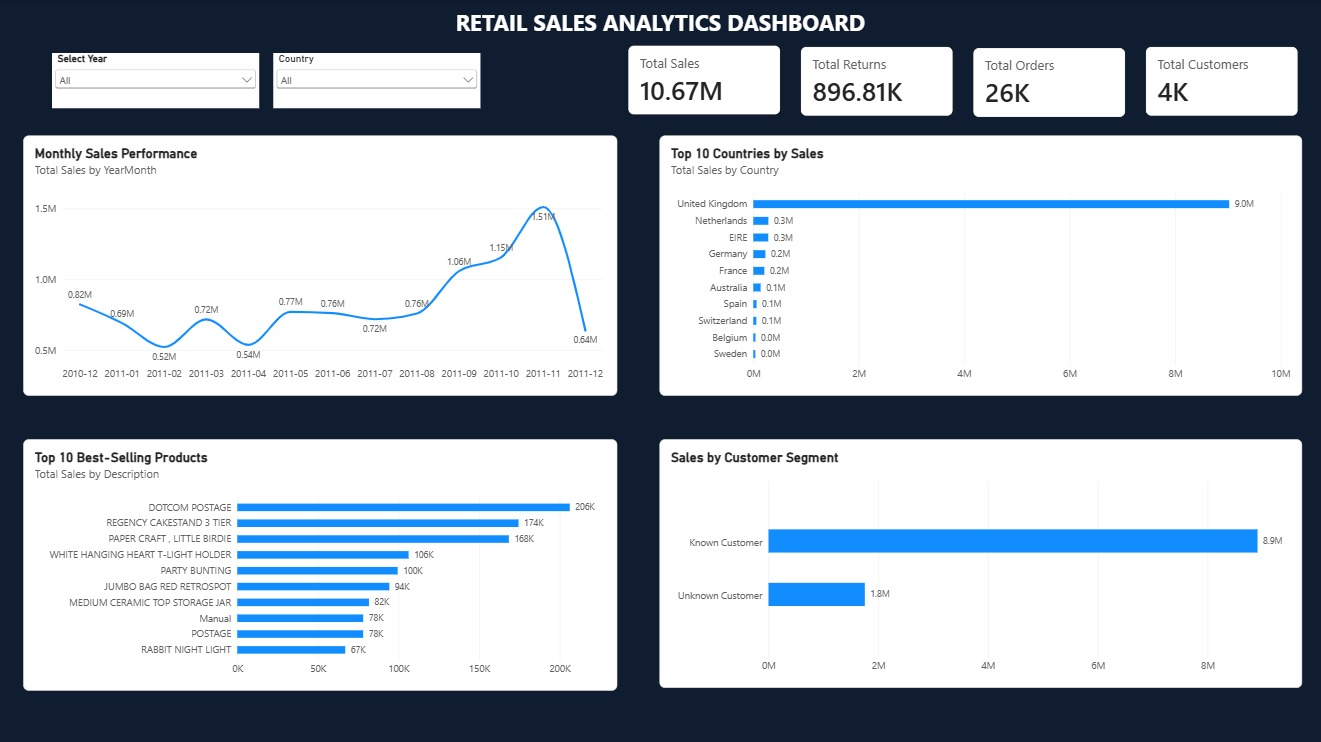

Layout of this report page (visuals, bound fields, positions):
{"tool":"powerbi","page":{"name":"Page 1","canvas":[1920,1080],"ordinal":0},"visuals":[{"type":"cardVisual","fields":{"Data":["Retail_Cleaned.Total Sales"]},"box":[913.9,68.8,220,100],"z":0},{"type":"cardVisual","fields":{"Data":["Online Retail.Total Returns"]},"box":[1163.6,70.6,220,100],"z":1000},{"type":"lineChart","title":"Monthly Sales Performance","fields":{"Category":["Retail_Cleaned.YearMonth"],"Y":["Retail_Cleaned.Total Sales"]},"box":[37.6,199.7,860.4,376.7],"z":2000},{"type":"clusteredBarChart","title":"Top 10 Countries by Sales","fields":{"Category":["Retail_Cleaned.Country"],"Y":["Retail_Cleaned.Total Sales"]},"box":[959.8,199.7,930.4,376.7],"z":3000},{"type":"textbox","title":"RETAIL SALES ANALYTICS DASHBOARD","box":[510,12.3,900,49.4],"z":4000},{"type":"cardVisual","fields":{"Data":["Online Retail.Total Orders"]},"box":[1413.3,72.4,220,100],"z":5000},{"type":"cardVisual","fields":{"Data":["Online Retail.Total Customers"]},"box":[1663,71.1,220,100],"z":6000},{"type":"clusteredBarChart","title":"Top 10 Best-Selling Products","fields":{"Category":["Retail_Cleaned.Description"],"Y":["Retail_Cleaned.Total Sales"]},"box":[37.6,638.1,860.4,364.3],"z":7000},{"type":"clusteredBarChart","title":"Sales by Customer Segment","fields":{"Category":["Retail_Cleaned.CustomerStatus"],"Y":["Retail_Cleaned.Total Sales"]},"box":[959.6,638,930,360],"z":10000},{"type":"slicer","fields":{"Values":["Retail_Cleaned.OrderYear"]},"box":[80,80,300,80],"z":10500},{"type":"slicer","fields":{"Values":["Retail_Cleaned.Country"]},"box":[400,80,300,80],"z":11000}]}

Visuals, with their boxes in screenshot pixels (x1, y1, x2, y2), scaled from the page's 1920x1080 canvas onto the 1321x742 screenshot:
cardVisual - Retail_Cleaned.Total Sales: box=[629, 47, 780, 116]
cardVisual - Online Retail.Total Returns: box=[801, 49, 952, 117]
"Monthly Sales Performance" lineChart: box=[26, 137, 618, 396]
"Top 10 Countries by Sales" clusteredBarChart: box=[660, 137, 1300, 396]
"RETAIL SALES ANALYTICS DASHBOARD" textbox: box=[351, 8, 970, 42]
cardVisual - Online Retail.Total Orders: box=[972, 50, 1124, 118]
cardVisual - Online Retail.Total Customers: box=[1144, 49, 1296, 118]
"Top 10 Best-Selling Products" clusteredBarChart: box=[26, 438, 618, 689]
"Sales by Customer Segment" clusteredBarChart: box=[660, 438, 1300, 686]
slicer - Retail_Cleaned.OrderYear: box=[55, 55, 261, 110]
slicer - Retail_Cleaned.Country: box=[275, 55, 482, 110]
